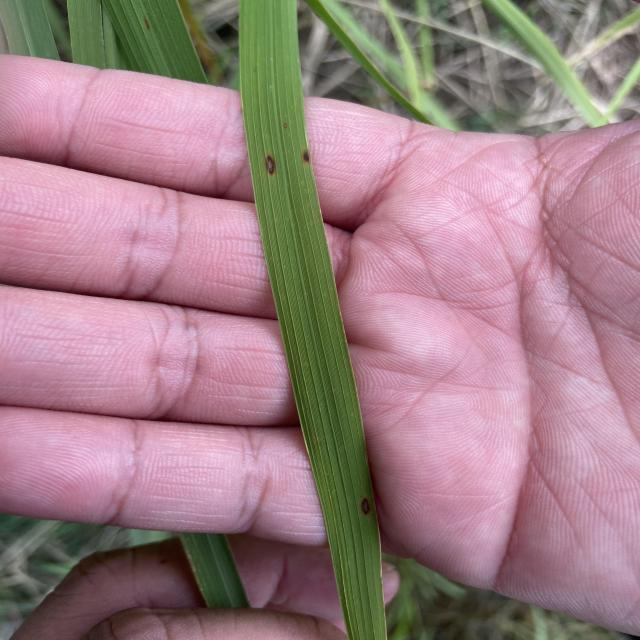Dao on: (265, 153, 276, 175), (301, 150, 310, 164), (283, 123, 288, 128)
